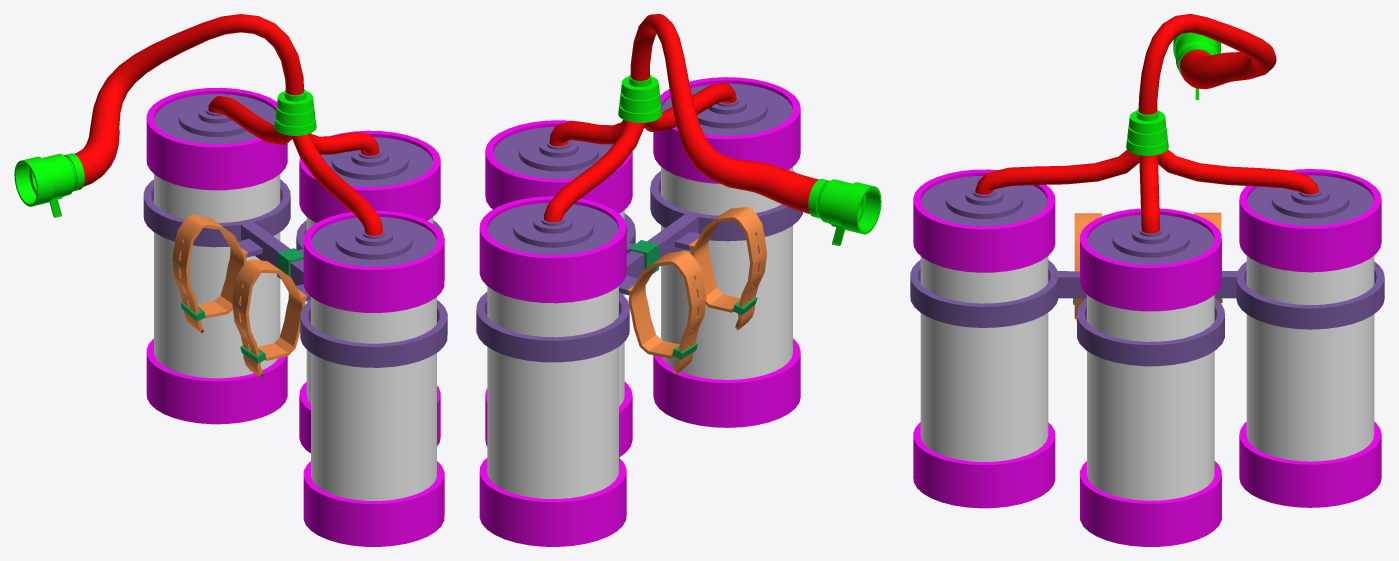
The model's file is Vacuum.fbx.
3 renders of one model, left to right at view 1: azimuth 30°, elevation 25°; view 2: azimuth 150°, elevation 25°; view 3: azimuth 270°, elevation 25°, orthographic. The views are drawn at different scales.
Visible parts, largest first — view 1: Cylinder.002, BezierCurve; view 2: Cylinder.002, BezierCurve; view 3: Cylinder.002, BezierCurve.
Part boxes in pixels (box(x1,y1,x2,y2)): Cylinder.002: box(143, 87, 447, 546); BezierCurve: box(14, 14, 382, 235); Cylinder.002: box(476, 77, 802, 546); BezierCurve: box(543, 14, 881, 245); Cylinder.002: box(910, 169, 1384, 546); BezierCurve: box(975, 14, 1318, 233).
Bounding box in the file's own units: 301 × 330 × 319.
